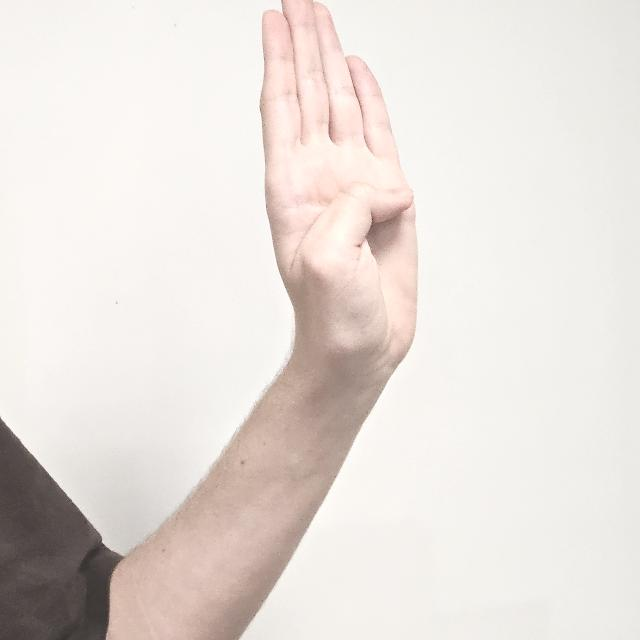Baixo: (255, 1, 437, 418)
